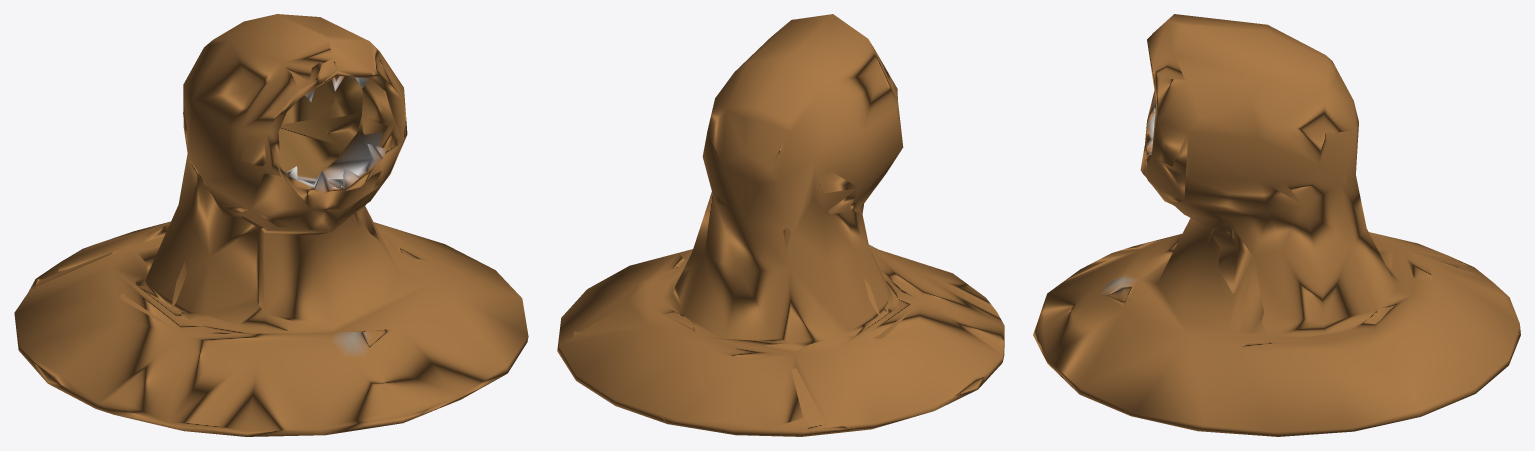
The model's file is gen3d-sandworm-lod1.glb.
3 views of the same model, side by side, from view 1: azimuth 30°, elevation 25°; view 2: azimuth 150°, elevation 25°; view 3: azimuth 270°, elevation 25° (orthographic). The views are drawn at different scales.
Visible parts, largest first — view 1: part_0; view 2: part_0; view 3: part_0.
Boxes of the visible parts, x1,y1,x2,y2 form: part_0: [14, 14, 528, 436]; part_0: [557, 14, 1004, 436]; part_0: [1033, 14, 1520, 436].
Size of the model in its own units: 1.41 by 1 by 1.41.
